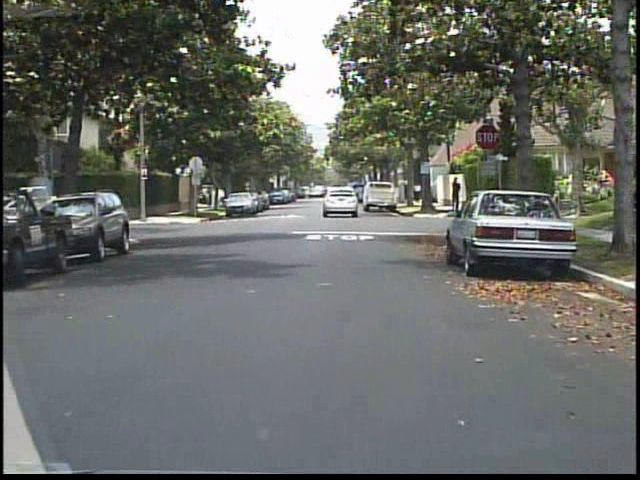person: (448, 176, 464, 208), (414, 178, 425, 205)
